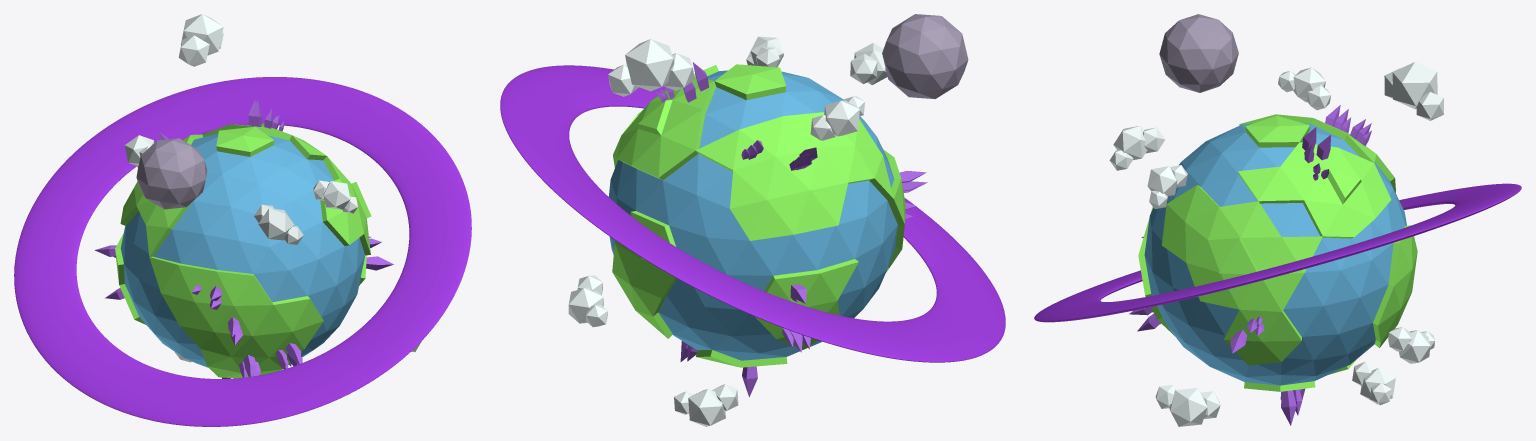
The model's file is planetics2.glb.
The picture shows the model from 3 angles, left to right: view 1: azimuth 30°, elevation 25°; view 2: azimuth 150°, elevation 25°; view 3: azimuth 270°, elevation 25°; orthographic projection. The views are drawn at different scales.
Parts seen in each view (by area): view 1: world-ring, world-water, world terrain, moon, Icosphere, Icosphere.003, Icosphere.002, Icosphere.004; view 2: world terrain, world-ring, world-water, moon, Icosphere, Icosphere.005, Icosphere.004, Icosphere.001, Icosphere.003, Icosphere.002; view 3: world terrain, world-water, world-ring, moon, Icosphere, Icosphere.006, Icosphere.003, Icosphere.004, Icosphere.005, Icosphere.001, Icosphere.002.
Boxes of the visible parts, x1=… form: world-ring: x1=14, y1=77, x2=471, y2=426; world-water: x1=120, y1=133, x2=365, y2=367; world terrain: x1=115, y1=123, x2=371, y2=378; moon: x1=136, y1=138, x2=207, y2=209; Icosphere: x1=178, y1=14, x2=223, y2=66; Icosphere.003: x1=254, y1=204, x2=303, y2=244; Icosphere.002: x1=313, y1=180, x2=357, y2=213; Icosphere.004: x1=124, y1=135, x2=154, y2=165; world terrain: x1=612, y1=64, x2=905, y2=367; world-ring: x1=500, y1=65, x2=1005, y2=362; world-water: x1=608, y1=70, x2=897, y2=360; moon: x1=882, y1=14, x2=968, y2=98; Icosphere: x1=608, y1=39, x2=694, y2=96; Icosphere.005: x1=674, y1=384, x2=738, y2=426; Icosphere.004: x1=810, y1=96, x2=864, y2=140; Icosphere.001: x1=568, y1=275, x2=607, y2=327; Icosphere.003: x1=850, y1=42, x2=887, y2=84; Icosphere.002: x1=746, y1=36, x2=783, y2=67; world terrain: x1=1138, y1=114, x2=1417, y2=391; world-water: x1=1144, y1=123, x2=1406, y2=385; world-ring: x1=1034, y1=183, x2=1521, y2=322; moon: x1=1159, y1=14, x2=1238, y2=92; Icosphere: x1=1384, y1=62, x2=1444, y2=120; Icosphere.006: x1=1155, y1=385, x2=1220, y2=426; Icosphere.003: x1=1109, y1=125, x2=1165, y2=170; Icosphere.004: x1=1278, y1=67, x2=1331, y2=110; Icosphere.005: x1=1352, y1=361, x2=1395, y2=405; Icosphere.001: x1=1388, y1=327, x2=1434, y2=363; Icosphere.002: x1=1147, y1=165, x2=1187, y2=208.
Bounding box in the file's own units: 17.94 × 14.94 × 18.37.
